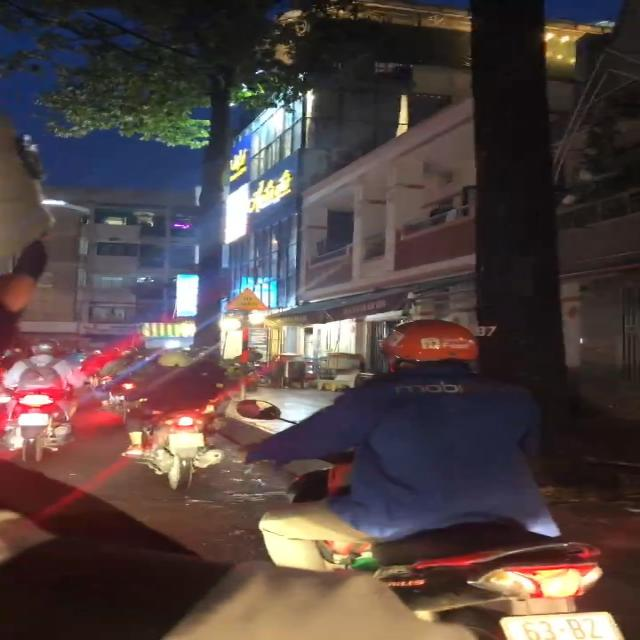Bien bao di cham: (218, 286, 276, 314)
